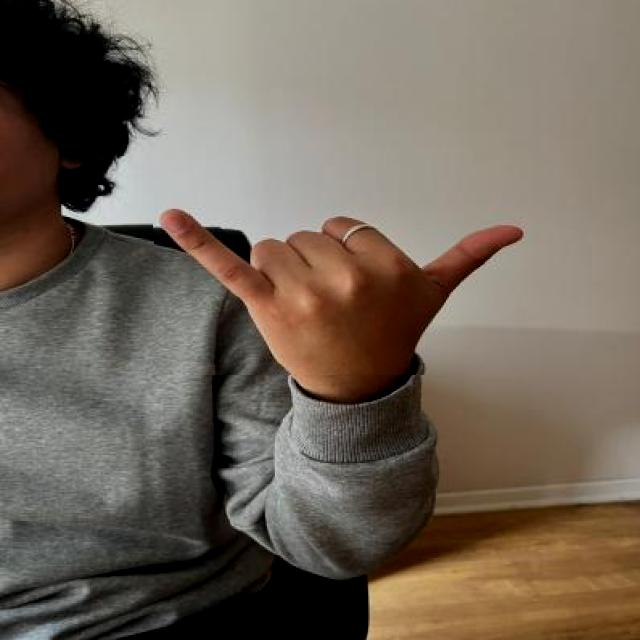Y: (153, 193, 527, 375)
